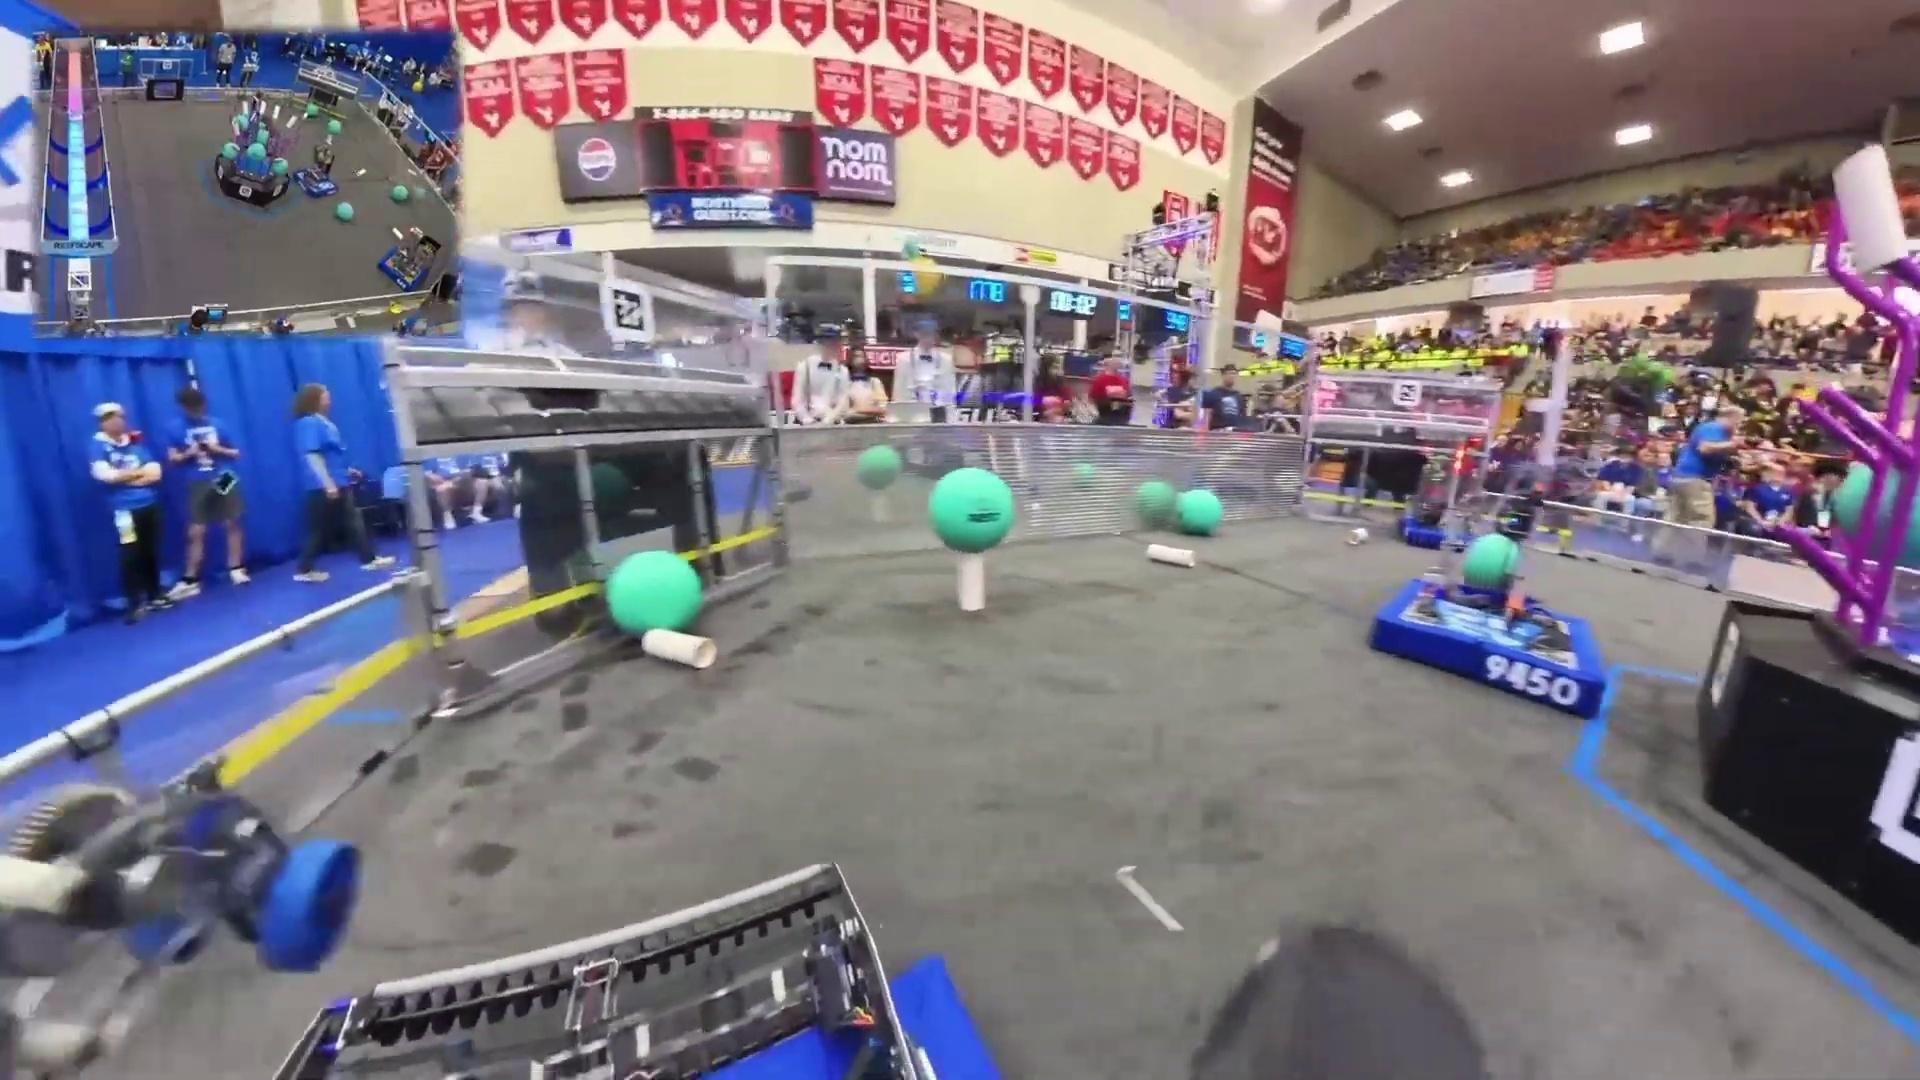robot: (1370, 530, 1606, 716), (1395, 446, 1489, 551), (377, 223, 443, 290), (295, 142, 340, 198)
